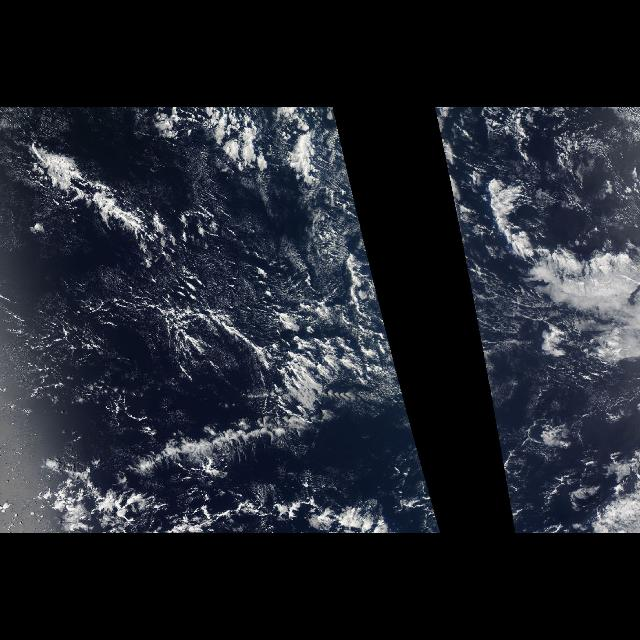Fish: (3, 108, 404, 444), (456, 148, 640, 298)
Sugar: (170, 218, 338, 322)
